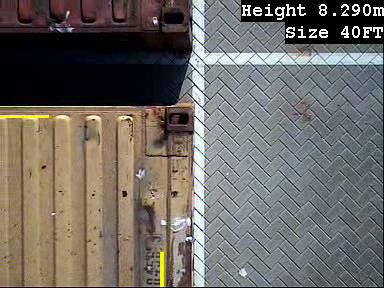groundmarker_2: (54, 86, 151, 154)
